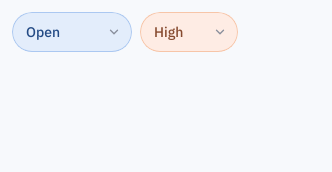
it: TicketTriage › shows the error inline and keeps the server value
Step 1. Select "Closed" in the dropdown named "Status for Printer on fire" → (72, 32), box [12,12,132,52]
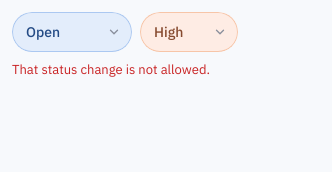
Expected: the message reads "That status change is not allowed.", [12,61,210,78]
